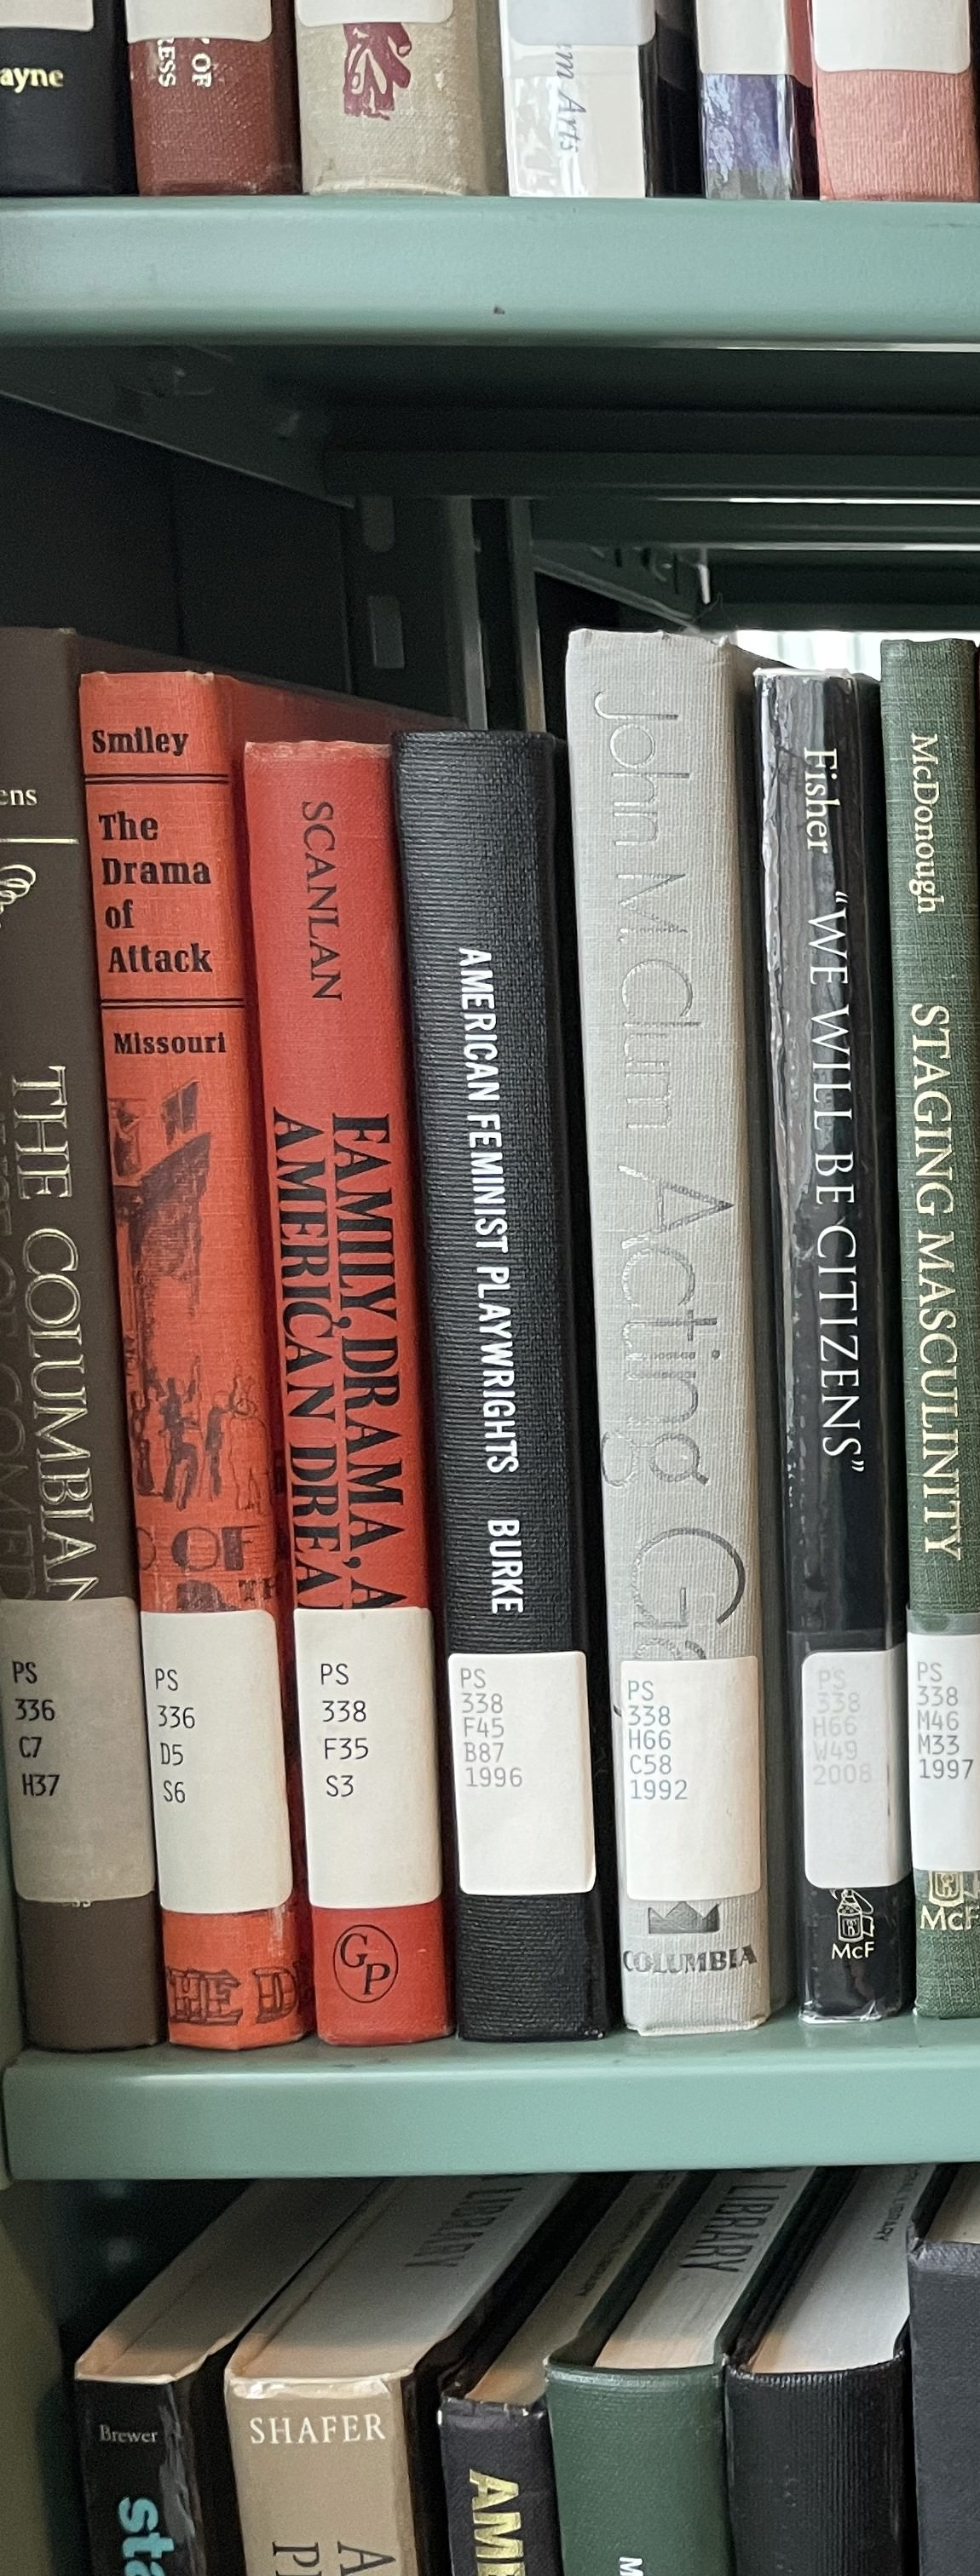call_number: (3, 1602, 141, 1902), (306, 1610, 439, 1909), (146, 1610, 276, 1912), (620, 1659, 760, 1894), (449, 1659, 590, 1884), (801, 1654, 898, 1884), (911, 1631, 980, 1870)
